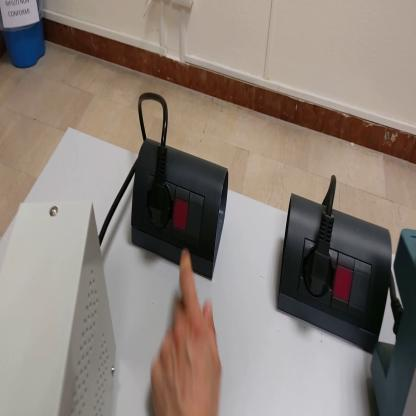hand: (151, 247, 222, 416)
oscilloscope: (371, 230, 416, 416)
power supply: (1, 201, 117, 414)
socket: (282, 197, 395, 356), (130, 138, 230, 282)
